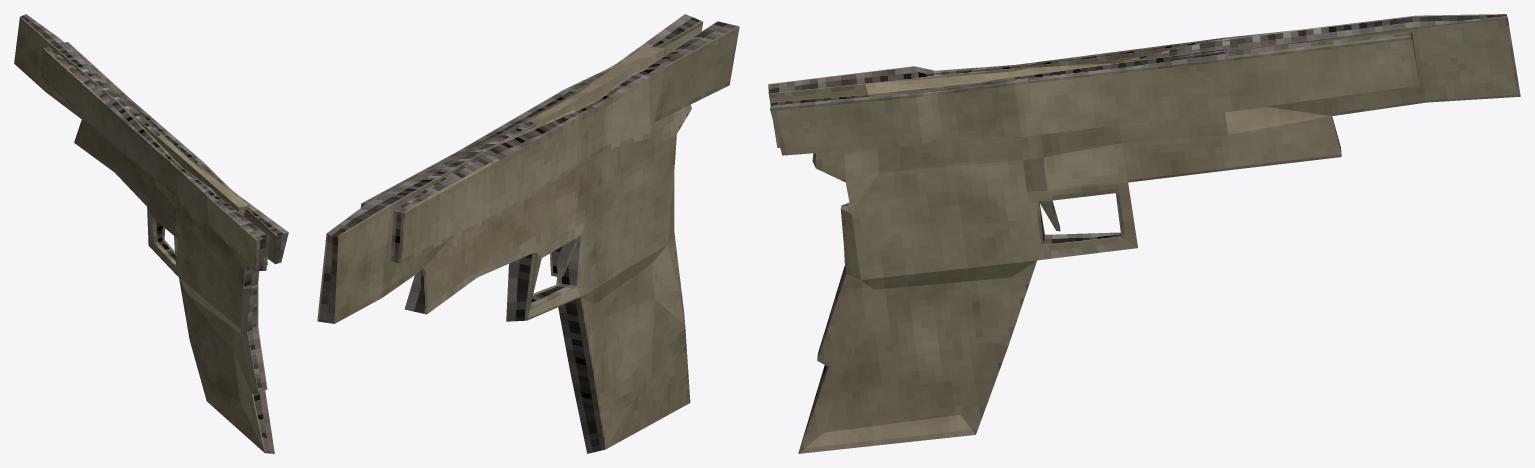
Rendered from cardboardPistol_shoot.fbx.
The picture shows the model from 3 angles, left to right: view 1: azimuth 30°, elevation 25°; view 2: azimuth 150°, elevation 25°; view 3: azimuth 270°, elevation 25°; orthographic projection. The views are drawn at different scales.
Parts seen in each view (by area): view 1: main pistol, slider; view 2: main pistol, slider; view 3: main pistol, slider.
Boxes of the visible parts, x1,y1,x2,y2 form: main pistol: (14,14,274,453); slider: (41,42,288,270); main pistol: (317,47,691,453); slider: (360,14,739,263); main pistol: (798,14,1520,453); slider: (768,30,1419,155).
Bounding box in the file's own units: 3.92 × 27.36 × 44.13.
